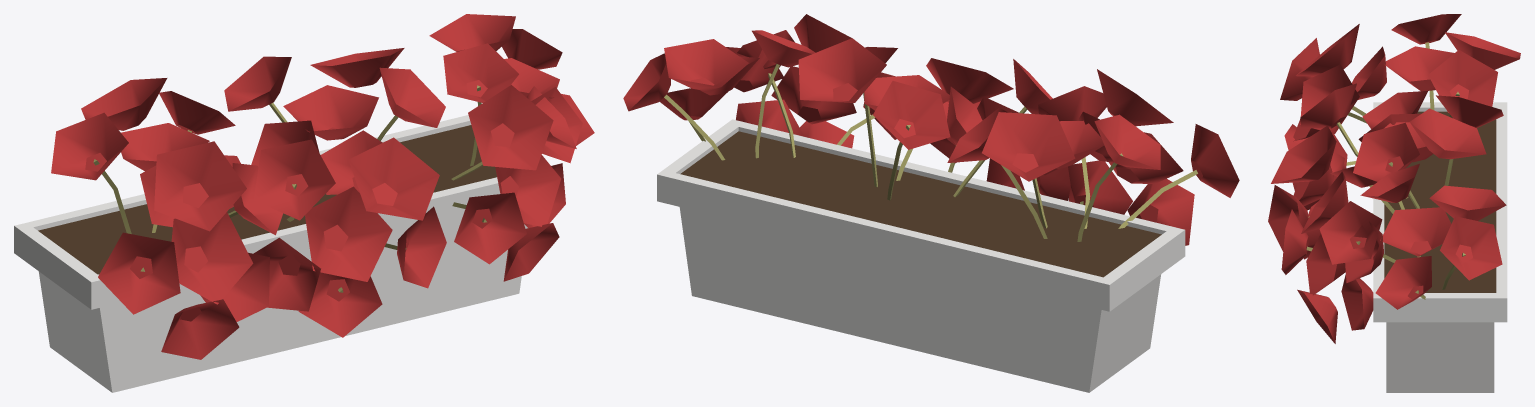
File: SM_flowerbox_small_03.fbx
3 views of the same model, side by side, from view 1: azimuth 30°, elevation 25°; view 2: azimuth 150°, elevation 25°; view 3: azimuth 270°, elevation 25° (orthographic). The views are drawn at different scales.
Parts seen in each view (by area): view 1: Box119; view 2: Box119; view 3: Box119.
Boxes of the visible parts, x1,y1,x2,y2 form: Box119: [14, 14, 594, 392]; Box119: [623, 14, 1239, 392]; Box119: [1268, 14, 1520, 392].
Size of the model in its own units: 32.56 by 15.1 by 14.65.
